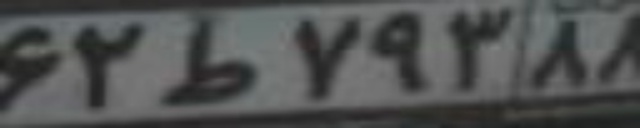2: (75, 21, 144, 106)
3: (445, 5, 511, 88)
6: (0, 28, 61, 112)
7: (291, 17, 362, 98)
8: (531, 21, 586, 86), (593, 14, 637, 84)
9: (373, 11, 425, 91)
taa: (162, 21, 256, 104)
